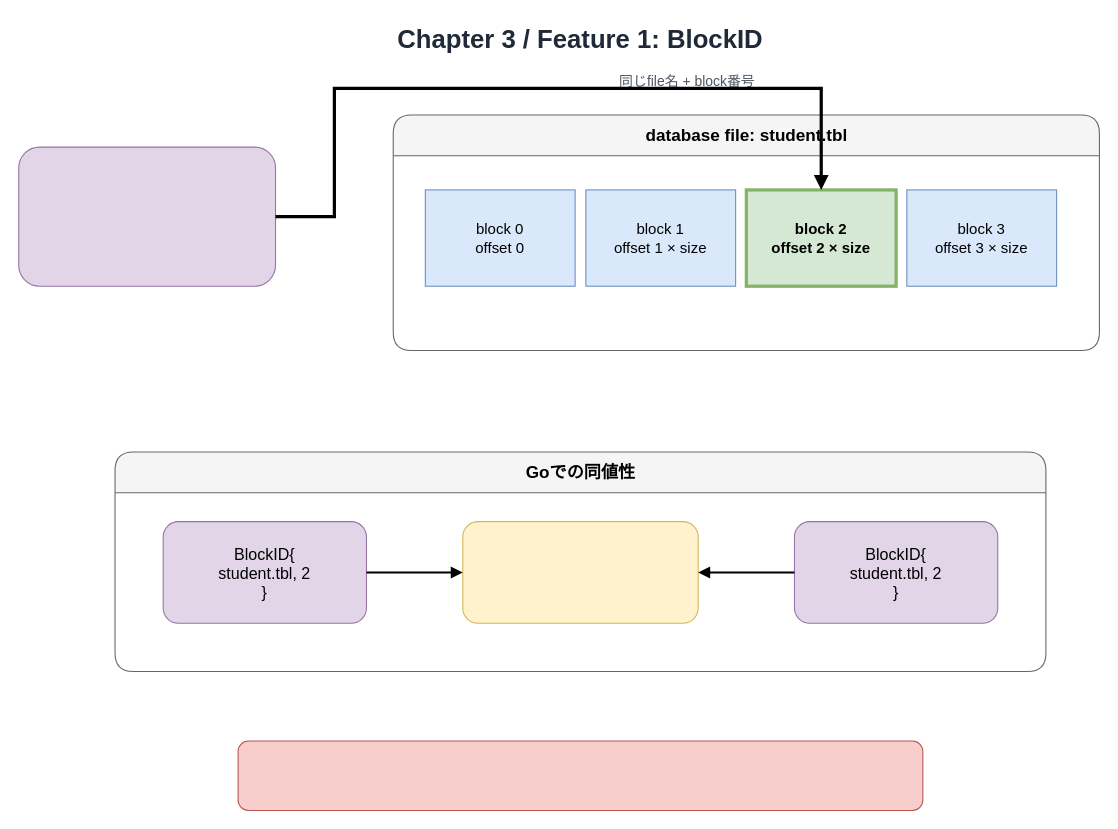
Some shapes in this 1118 by 829 pixel diagram are drawn without their labels. The centre of each missing label's shape, as x and y in pixels:
"== stringとintだけなので 比較可能 / map key" belongs at point 580,572.
"BlockID fileName: student.tbl number: 2" belongs at point 147,216.
"このPRの境界: blockの識別だけ。Pageとfilesystem I/Oは後続Issue。" belongs at point 580,775.
